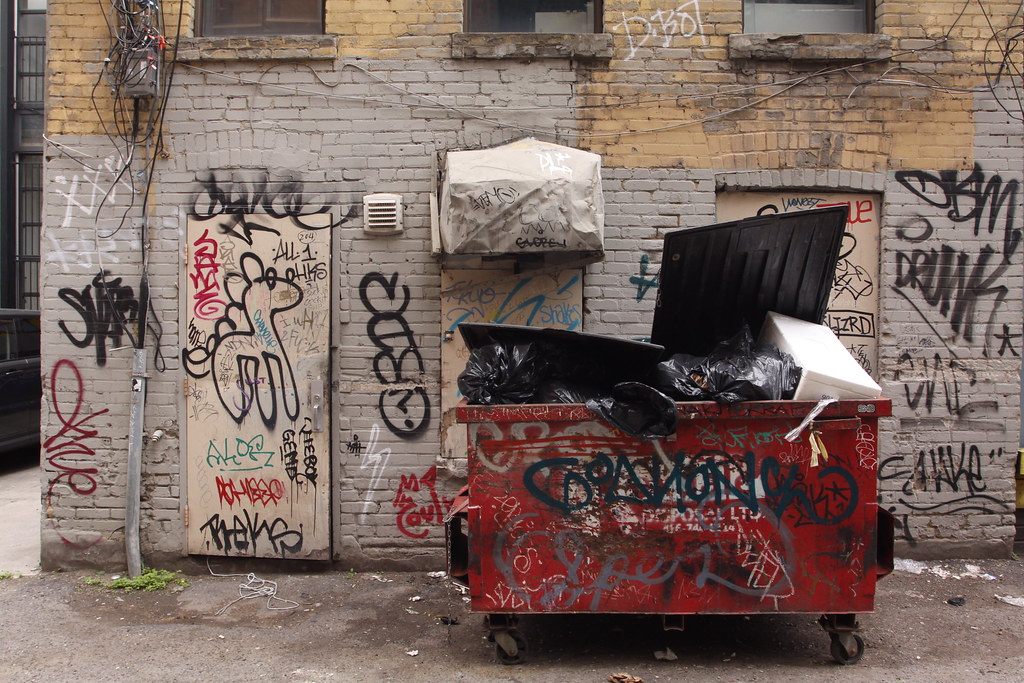Dumpster: (434, 207, 891, 667)
